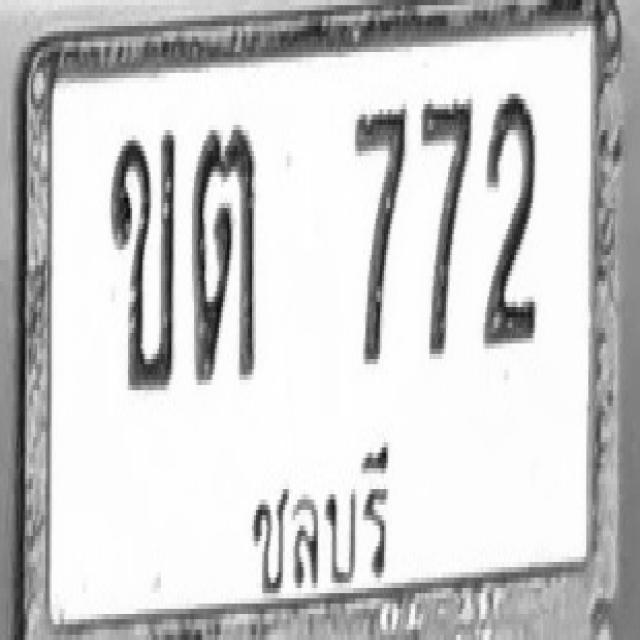11KhorKhai: (110, 127, 176, 393)
2: (482, 89, 536, 344)
30TorTao: (192, 122, 256, 382)
7: (353, 104, 407, 364), (420, 96, 472, 356)
Chonburi: (240, 441, 401, 602)
